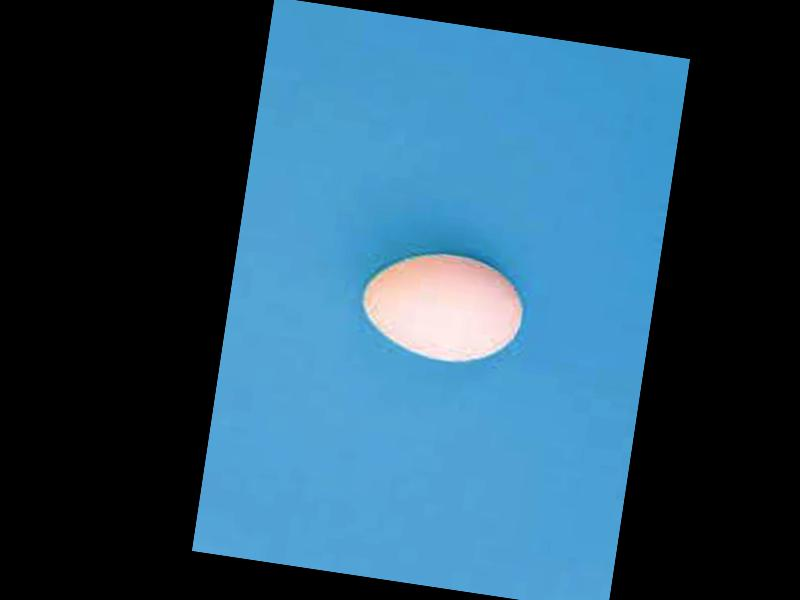Eggs: (352, 241, 529, 369)
